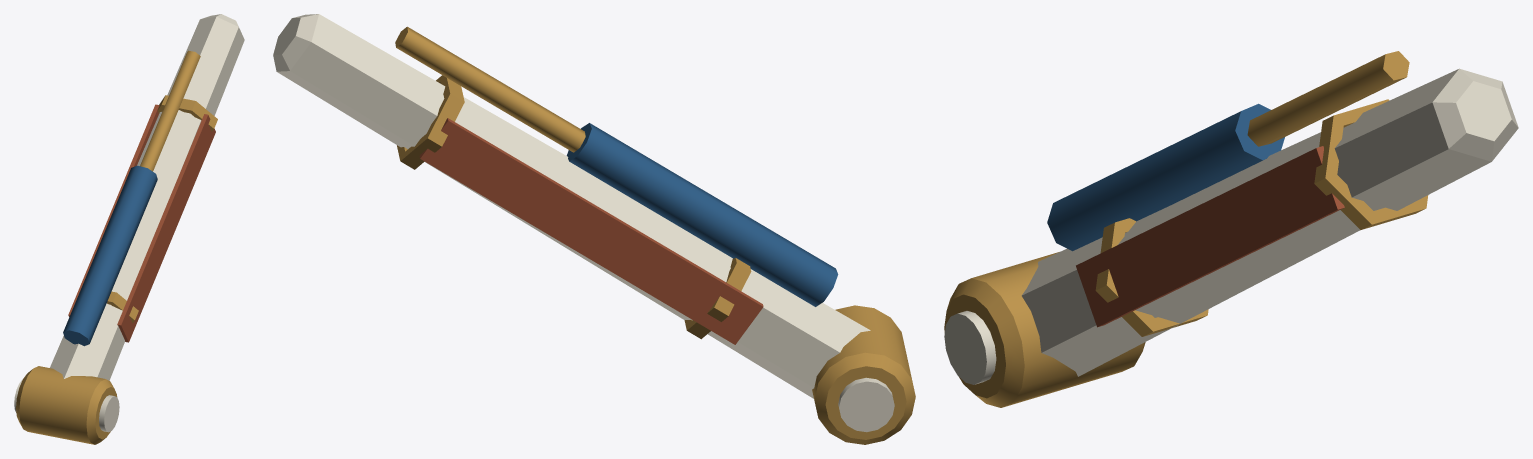
File: rm2_leg_rl_femur.obj
3 views of the same model, side by side, from view 1: azimuth 30°, elevation 25°; view 2: azimuth 150°, elevation 25°; view 3: azimuth 270°, elevation 25° (orthographic). The views are drawn at different scales.
Visible parts, largest first — view 1: rm2_leg_rl_femur; view 2: rm2_leg_rl_femur; view 3: rm2_leg_rl_femur.
Part boxes in pixels (<box>): rm2_leg_rl_femur: <box>14,14,244,444</box>; rm2_leg_rl_femur: <box>273,14,915,444</box>; rm2_leg_rl_femur: <box>944,51,1518,407</box>.
Size of the model in its own units: 0.5083 by 0.4271 by 0.3944.
